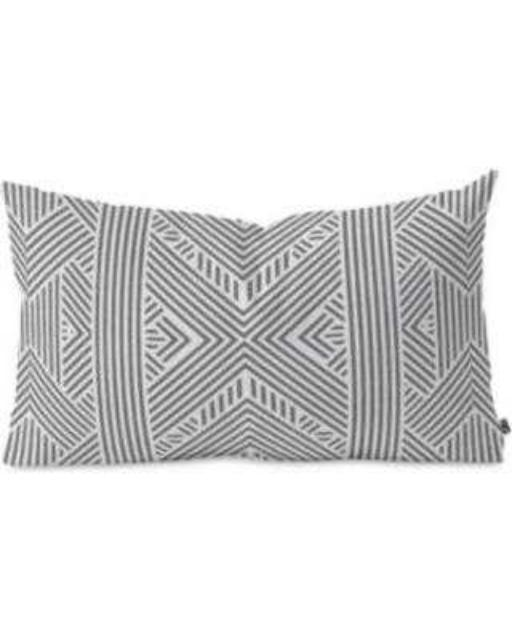pillow: (0, 167, 510, 469)
